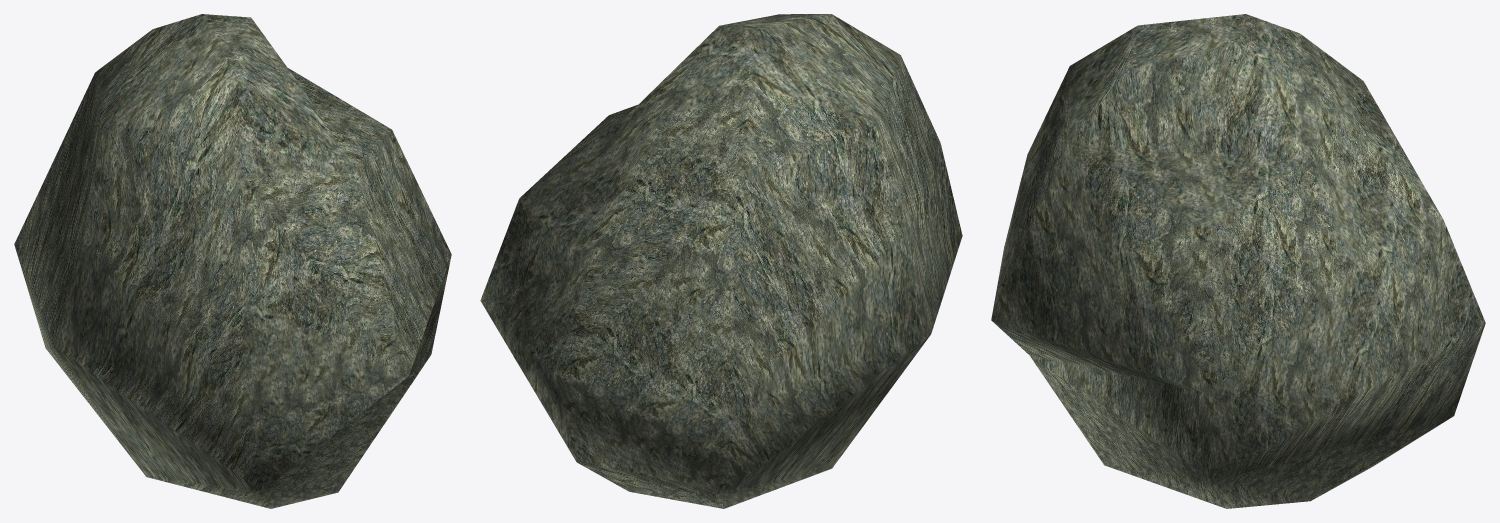
Rendered from mtns_rock_grey_a5_l1.fbx.
3 renders of one model, left to right at view 1: azimuth 30°, elevation 25°; view 2: azimuth 150°, elevation 25°; view 3: azimuth 270°, elevation 25°, orthographic. The views are drawn at different scales.
Visible parts, largest first — view 1: mesh_node; view 2: mesh_node; view 3: mesh_node.
Boxes of the visible parts, left/top/right/bottom form: mesh_node: left=14, top=14, right=451, bottom=508; mesh_node: left=480, top=14, right=962, bottom=508; mesh_node: left=991, top=14, right=1485, bottom=508.
Size of the model in its own units: 1.66 by 1.79 by 1.89.
Materials: 1 (1 with a texture image).
